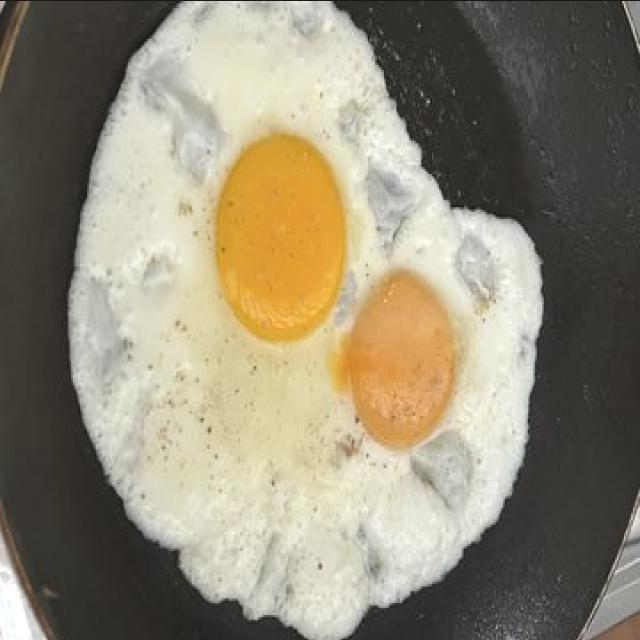telur ceplok: (68, 0, 542, 626)
